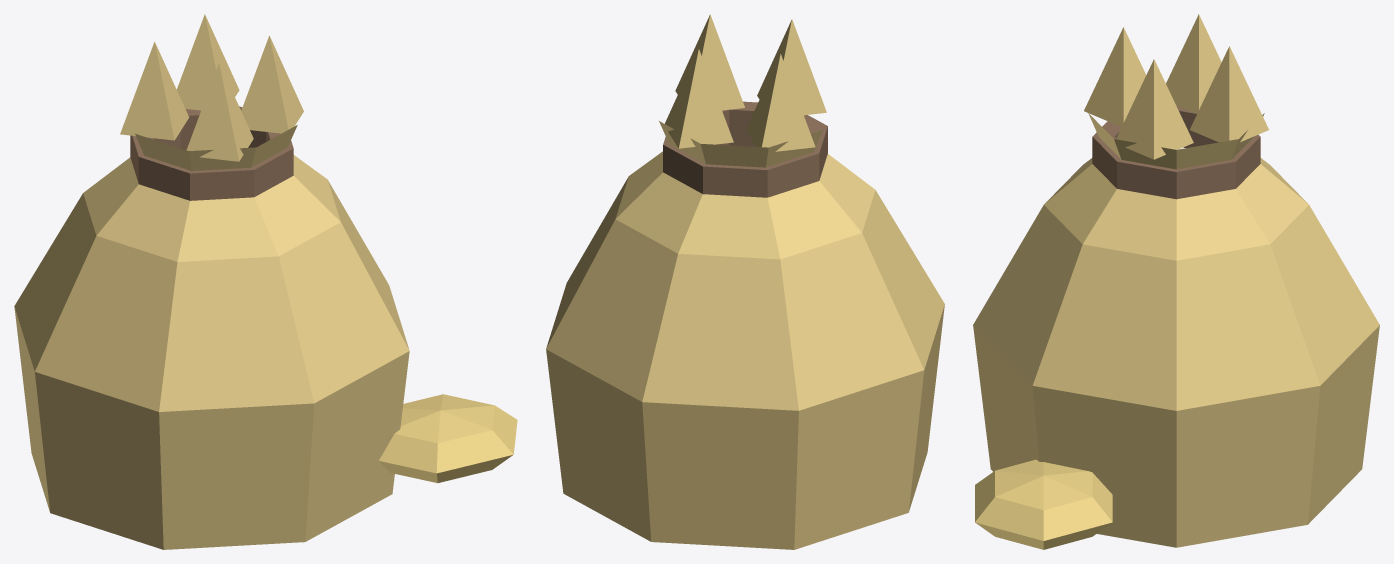
File: loot-sack.glb
The picture shows the model from 3 angles, left to right: view 1: azimuth 30°, elevation 25°; view 2: azimuth 150°, elevation 25°; view 3: azimuth 270°, elevation 25°; orthographic projection.
Parts seen in each view (by area): view 1: loot-sack; view 2: loot-sack; view 3: loot-sack.
Boxes of the visible parts, <box> form: loot-sack: <box>14,14,517,549</box>; loot-sack: <box>546,14,944,549</box>; loot-sack: <box>973,14,1379,549</box>.
Bounding box in the file's own units: 1.08 × 1.14 × 0.92.
